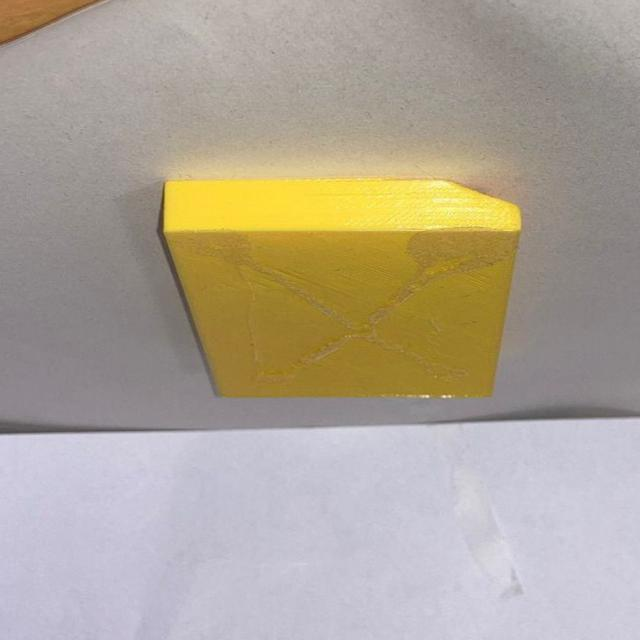Warping: (411, 178, 524, 218)
